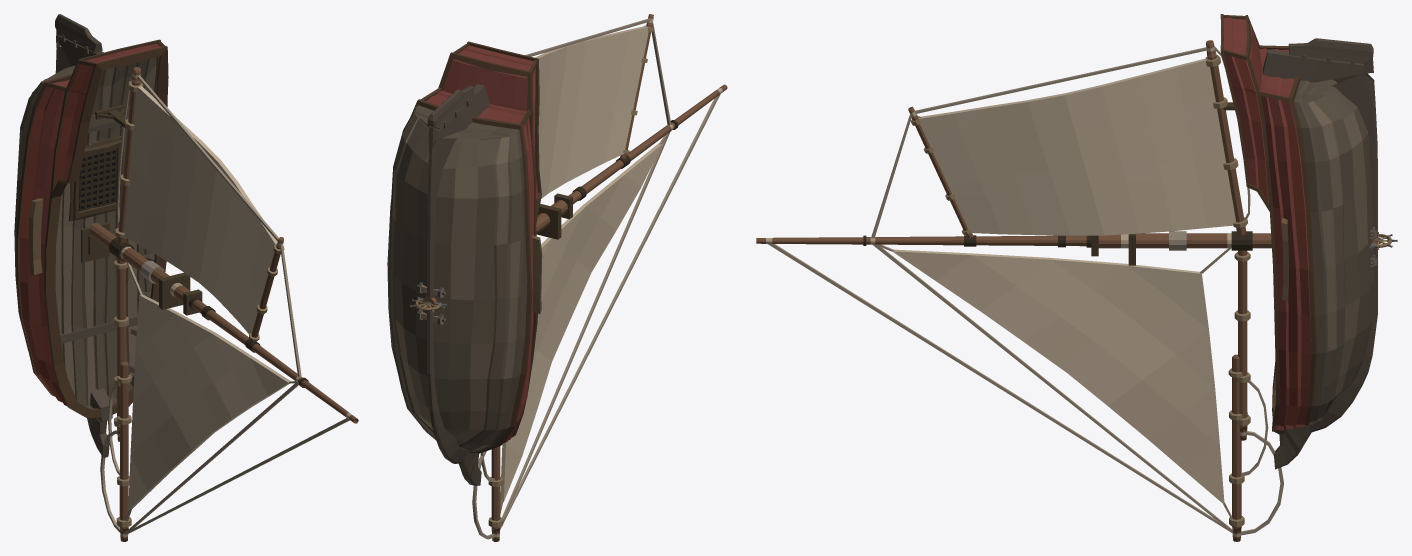
File: ship.glb
The picture shows the model from 3 angles, left to right: view 1: azimuth 30°, elevation 25°; view 2: azimuth 150°, elevation 25°; view 3: azimuth 270°, elevation 25°; orthographic projection. The views are drawn at different scales.
Visible parts, largest first — view 1: Hull, Sails, Mast; view 2: Hull, Sails, Mast; view 3: Sails, Hull, Mast.
Boxes of the visible parts, <box> form: Hull: <box>14,14,168,457</box>; Sails: <box>123,85,290,510</box>; Mast: <box>90,67,358,541</box>; Hull: <box>387,41,542,485</box>; Sails: <box>500,26,662,501</box>; Mast: <box>422,14,727,541</box>; Sails: <box>892,58,1235,504</box>; Hull: <box>1220,14,1377,469</box>; Mast: <box>756,40,1377,541</box>.
Bounding box in the file's own units: 5.07 × 16.64 × 19.02.
1 material, 1 textured.
